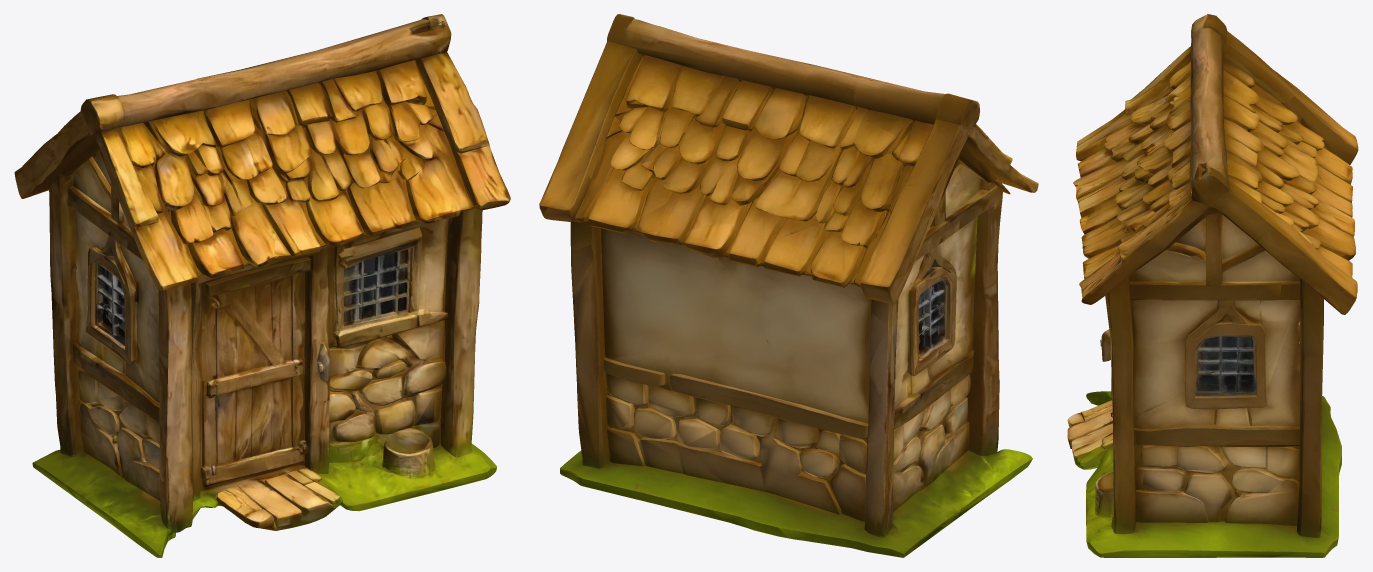
3 views of the same model, side by side, from view 1: azimuth 30°, elevation 25°; view 2: azimuth 150°, elevation 25°; view 3: azimuth 270°, elevation 25° (orthographic). The views are drawn at different scales.
Visible parts, largest first — view 1: model; view 2: model; view 3: model.
Boxes of the visible parts, left/top/right/bottom form: model: left=14, top=14, right=510, bottom=557; model: left=539, top=14, right=1038, bottom=557; model: left=1067, top=14, right=1358, bottom=557.
Bounding box in the file's own units: 1.7 × 1.9 × 1.3.
1 material, 1 textured.
